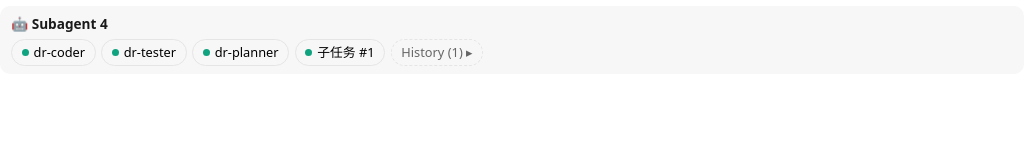
Test: SubagentBar 既有能力不回归（S4） › history entry reveals finished chips; their hash id is tooltip-secondary
Step 1. Click the button with class "subagent-history-toggle" → (437, 52), box top-left (391, 39), bottom-right (483, 66)
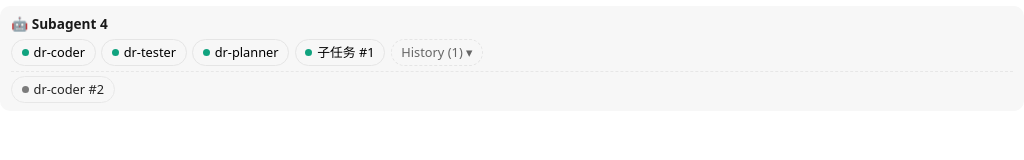
Check: the tab with class "subagent-chip" reads "dr-coder #2", box top-left (11, 76), bottom-right (115, 103)
